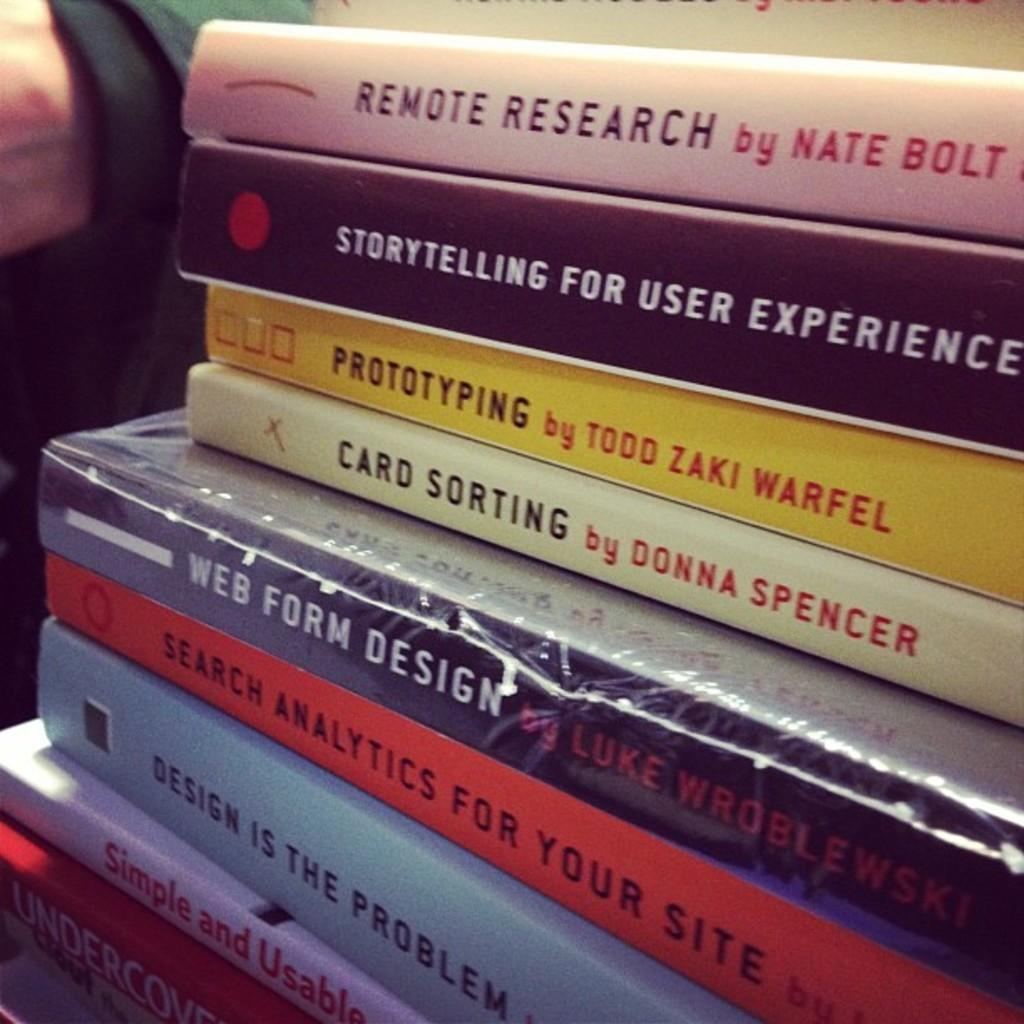book: (35, 410, 1022, 1011), (44, 532, 994, 1022), (184, 358, 1022, 745), (52, 607, 733, 1022), (177, 139, 1022, 457), (201, 281, 1022, 599), (187, 12, 1022, 239), (5, 713, 417, 1022)
